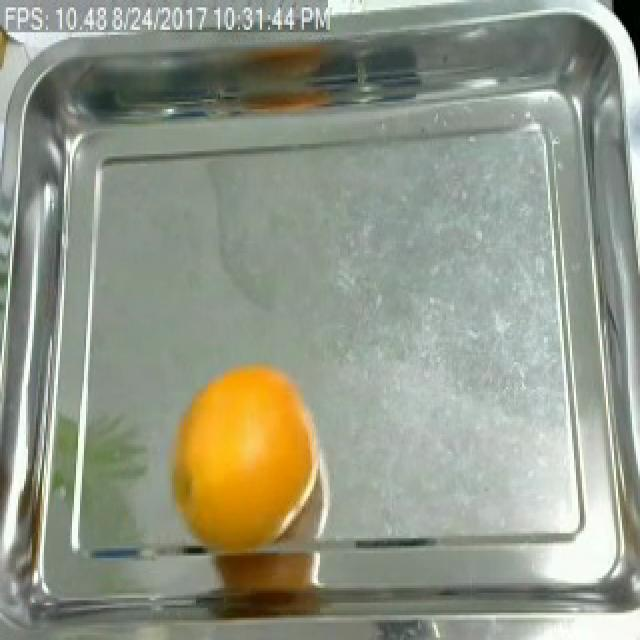Fruit: (164, 357, 320, 556), (0, 3, 18, 114)
